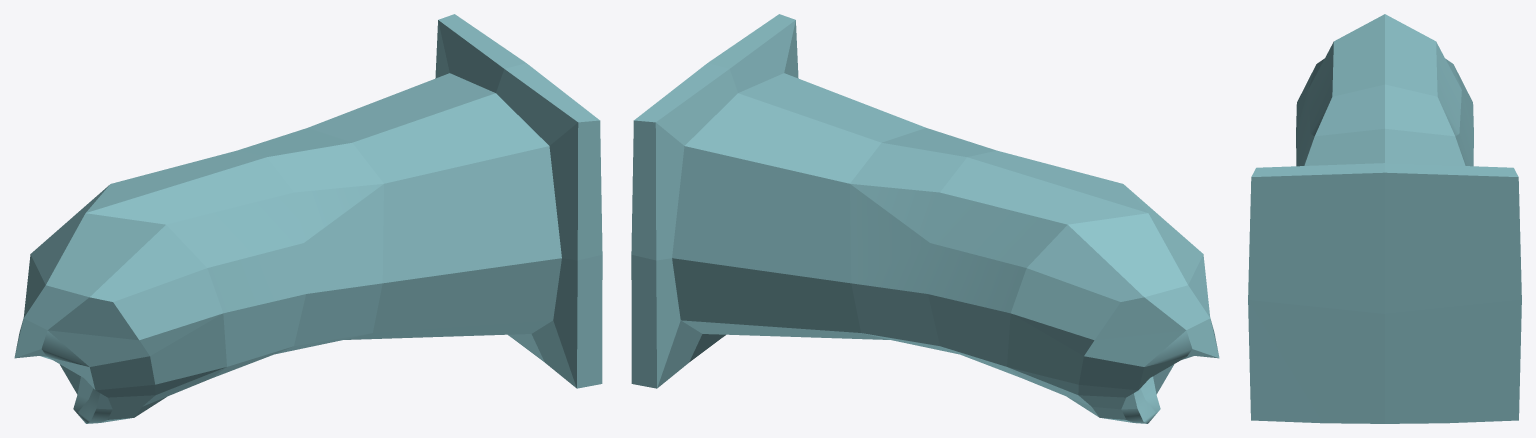
The model's file is Statue_10_Lod1.fbx.
3 views of the same model, side by side, from view 1: azimuth 30°, elevation 25°; view 2: azimuth 150°, elevation 25°; view 3: azimuth 270°, elevation 25° (orthographic). The views are drawn at different scales.
Visible parts, largest first — view 1: Statue_10_Lod1; view 2: Statue_10_Lod1; view 3: Statue_10_Lod1.
Part boxes in pixels (box(x1,y1,x2,y2)): Statue_10_Lod1: box(14, 14, 602, 423); Statue_10_Lod1: box(631, 14, 1219, 423); Statue_10_Lod1: box(1248, 14, 1521, 423).
Size of the model in its own units: 165 by 82.9 by 82.32.
